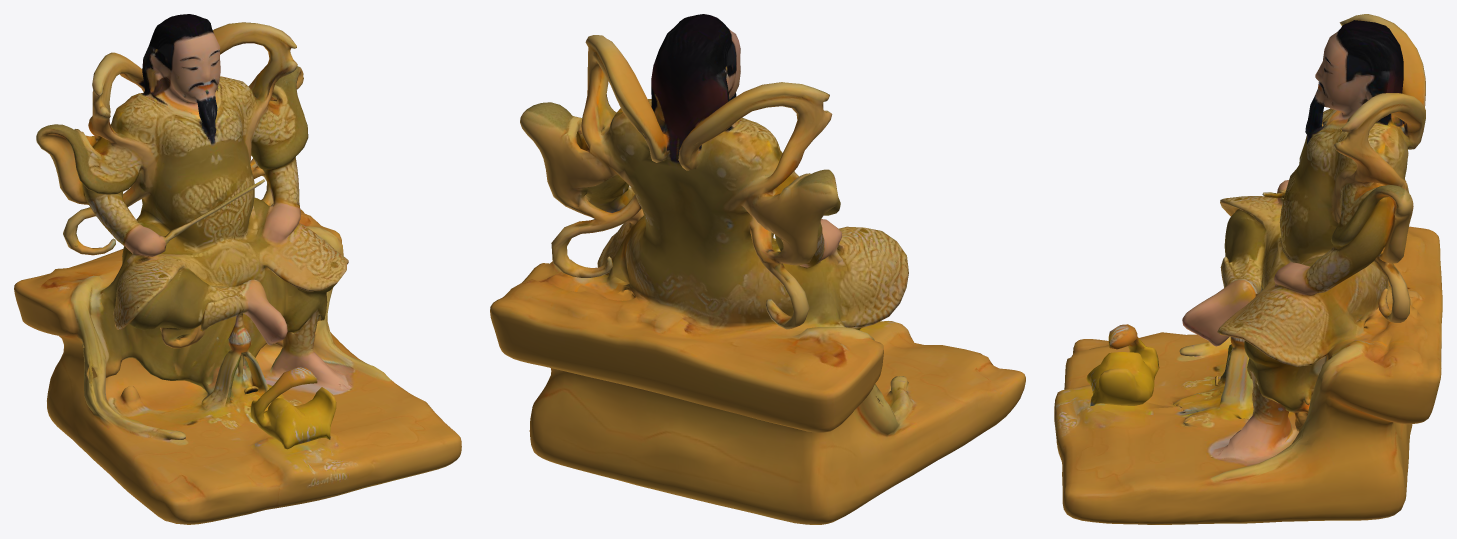
The picture shows the model from 3 angles, left to right: view 1: azimuth 30°, elevation 25°; view 2: azimuth 150°, elevation 25°; view 3: azimuth 270°, elevation 25°; orthographic projection. The views are drawn at different scales.
Parts seen in each view (by area): view 1: MD-北帝; view 2: MD-北帝; view 3: MD-北帝.
Boxes of the visible parts, x1,y1,x2,y2 form: MD-北帝: (14,14,461,524); MD-北帝: (490,14,1025,524); MD-北帝: (1054,14,1442,524).
Size of the model in its own units: 0.317 by 0.3286 by 0.4012.
